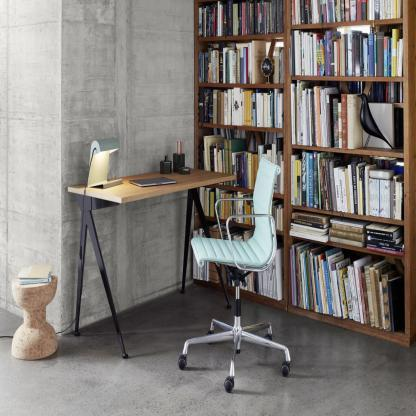chair: (178, 157, 293, 400)
table: (74, 163, 239, 359), (9, 264, 67, 365)
